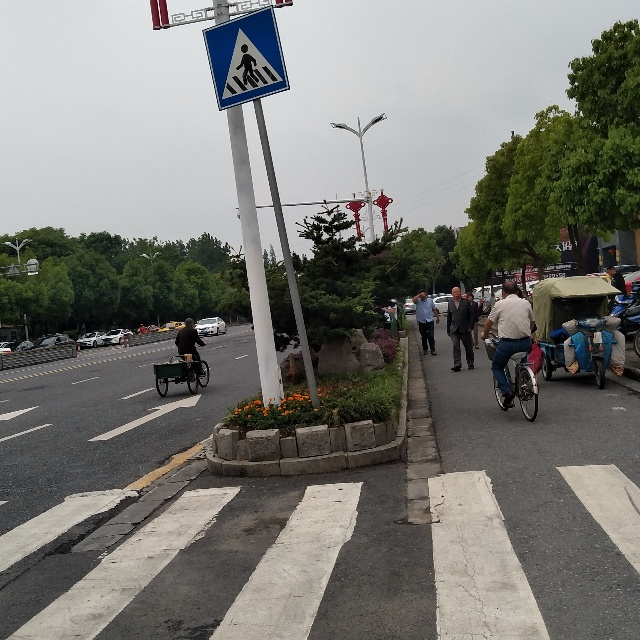crosswalk: (205, 22, 280, 93)
